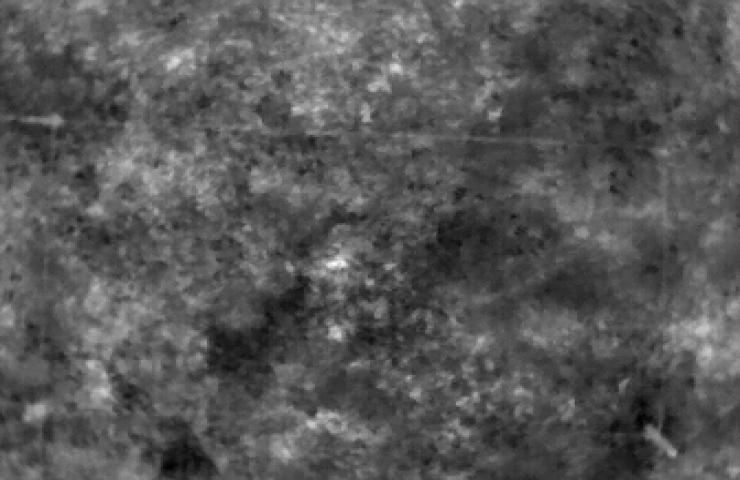landmines: (326, 254, 356, 281)
